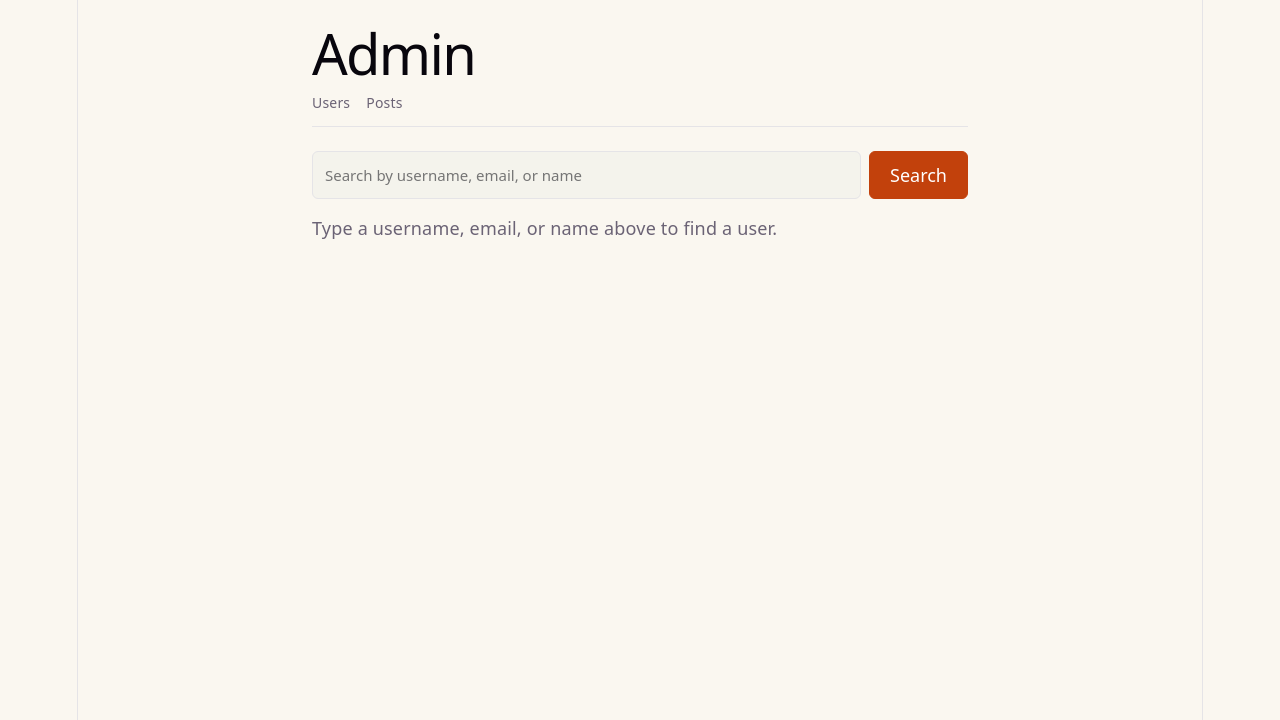
AdminUsers › runs a search and lists matching users
This screenshot has width=1280, height=720.
Type "alex" into the field named "Search users" at {"x": 586, "y": 175}, box [312,151,861,199]
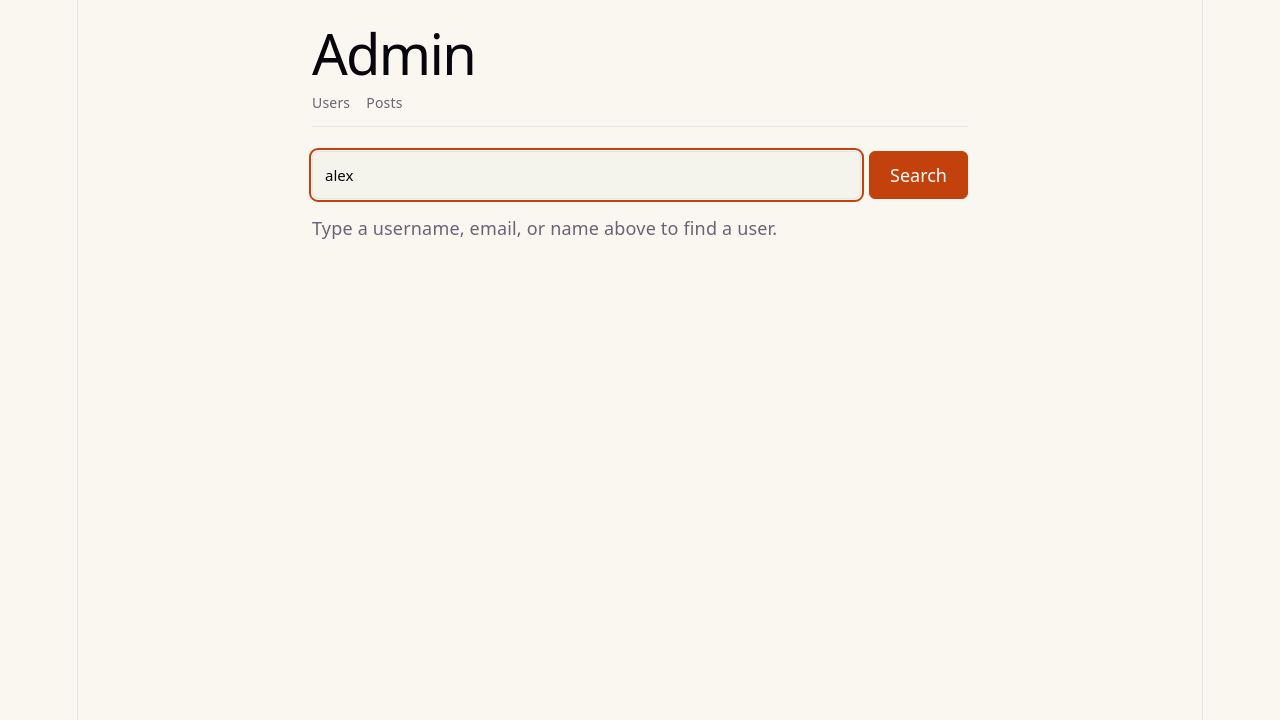
Click the button "Search" at {"x": 918, "y": 175}, box [869,151,968,199]
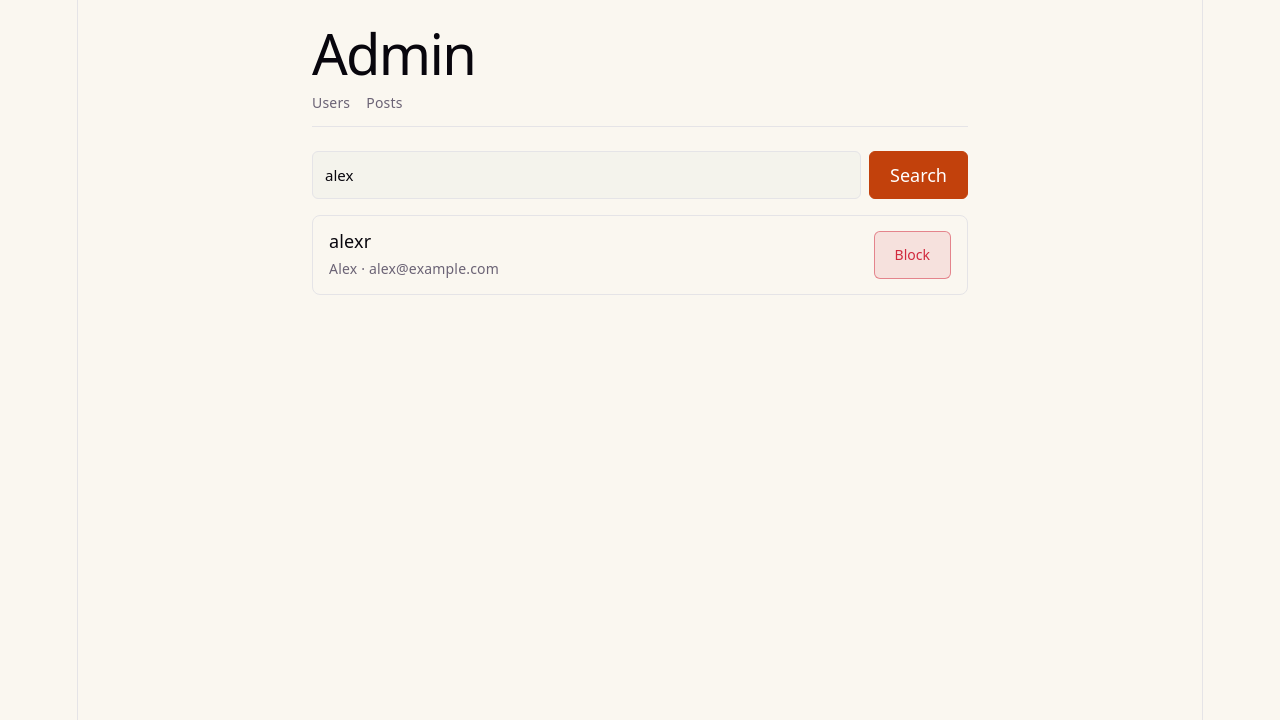
Result: the link "alexr" is shown at [329,229,371,253]
